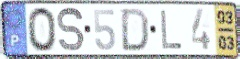4: (191, 7, 212, 53)
5: (93, 8, 117, 52)
D: (120, 7, 150, 53)
L: (159, 9, 184, 50)
O: (26, 6, 58, 54)
S: (56, 6, 86, 54)
